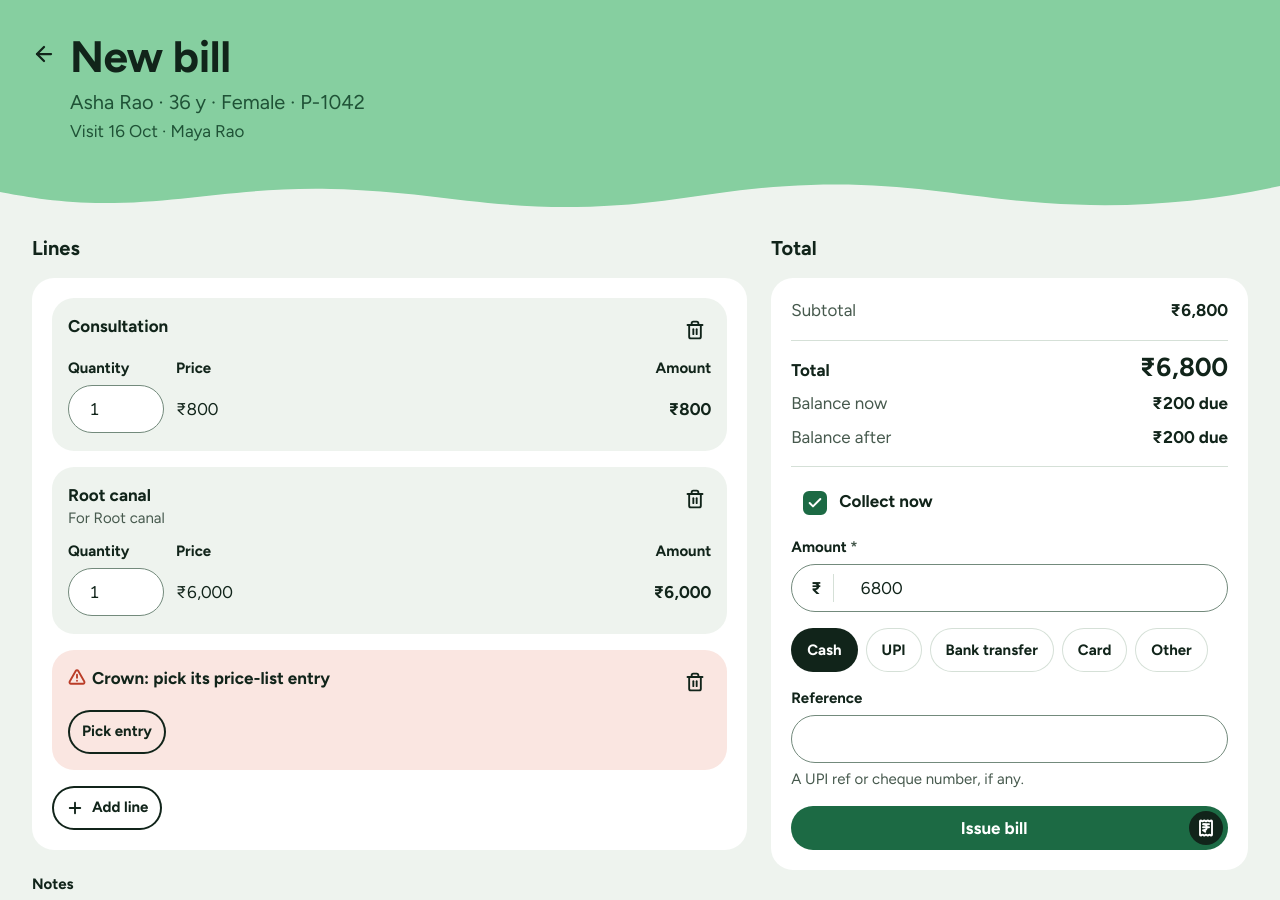
NewBill (plan §15.2; D302 – D313) › adds a line from the price list, searched and grouped, and removes one
Click the button named "Remove Crown" at {"x": 695, "y": 682}, box [673,660,717,704]
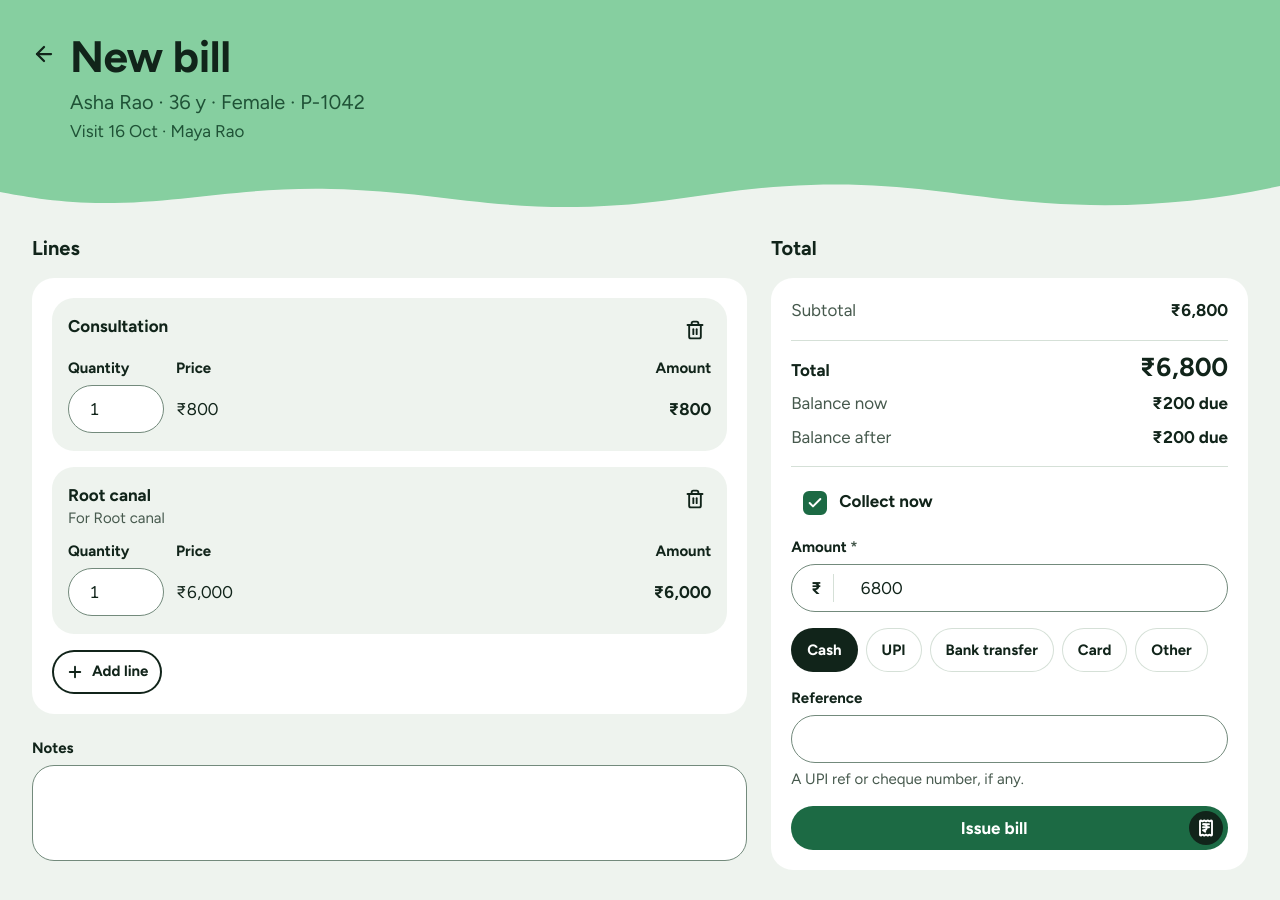
Click the button "Add line" at {"x": 107, "y": 672}, box [52,650,162,694]
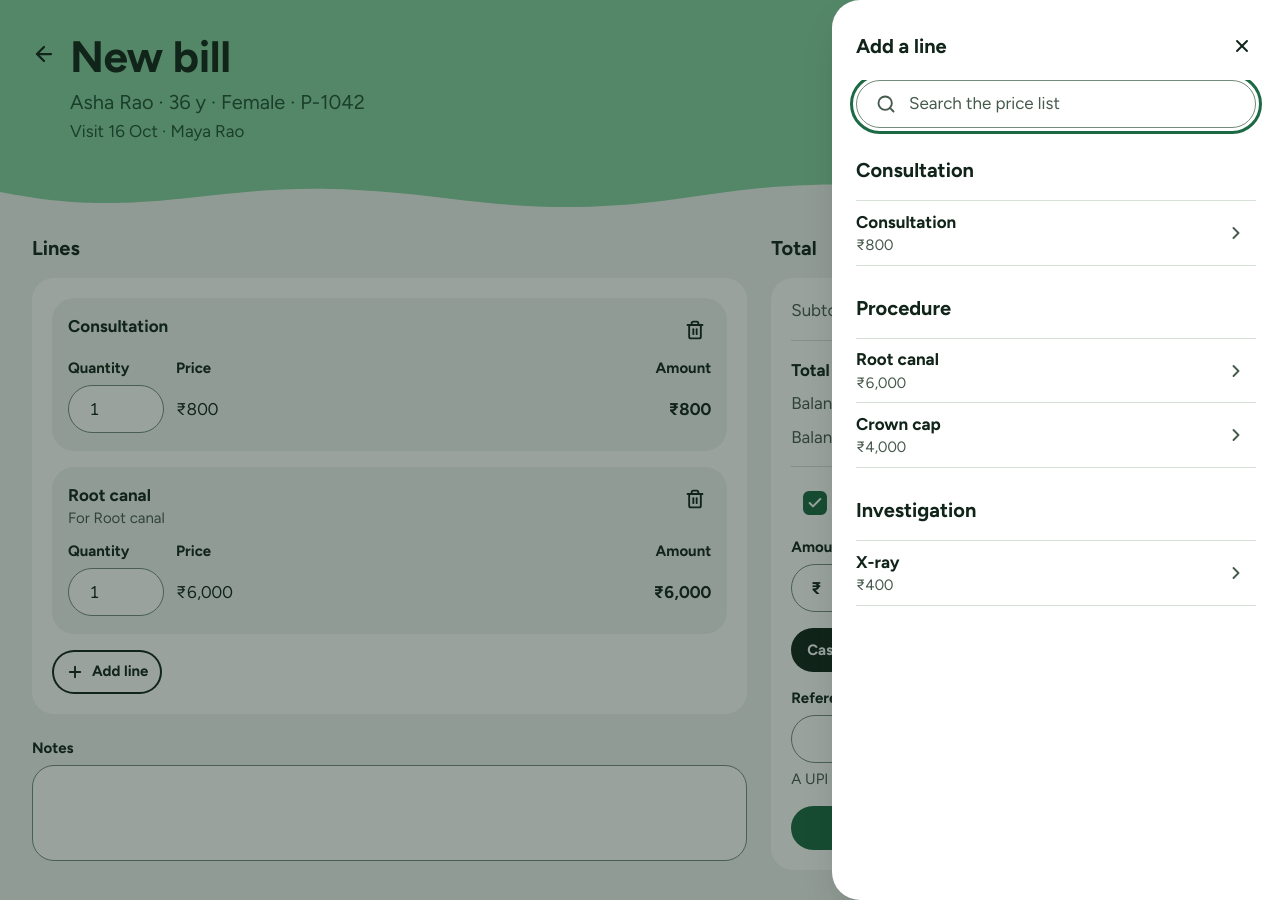
Expected: the heading "Investigation" is shown, [856,498,976,522]
Expected: the text "₹800" is shown, [856,236,893,254]
Type "zzz" into the search field at {"x": 1056, "y": 104}, box [856,80,1256,128]
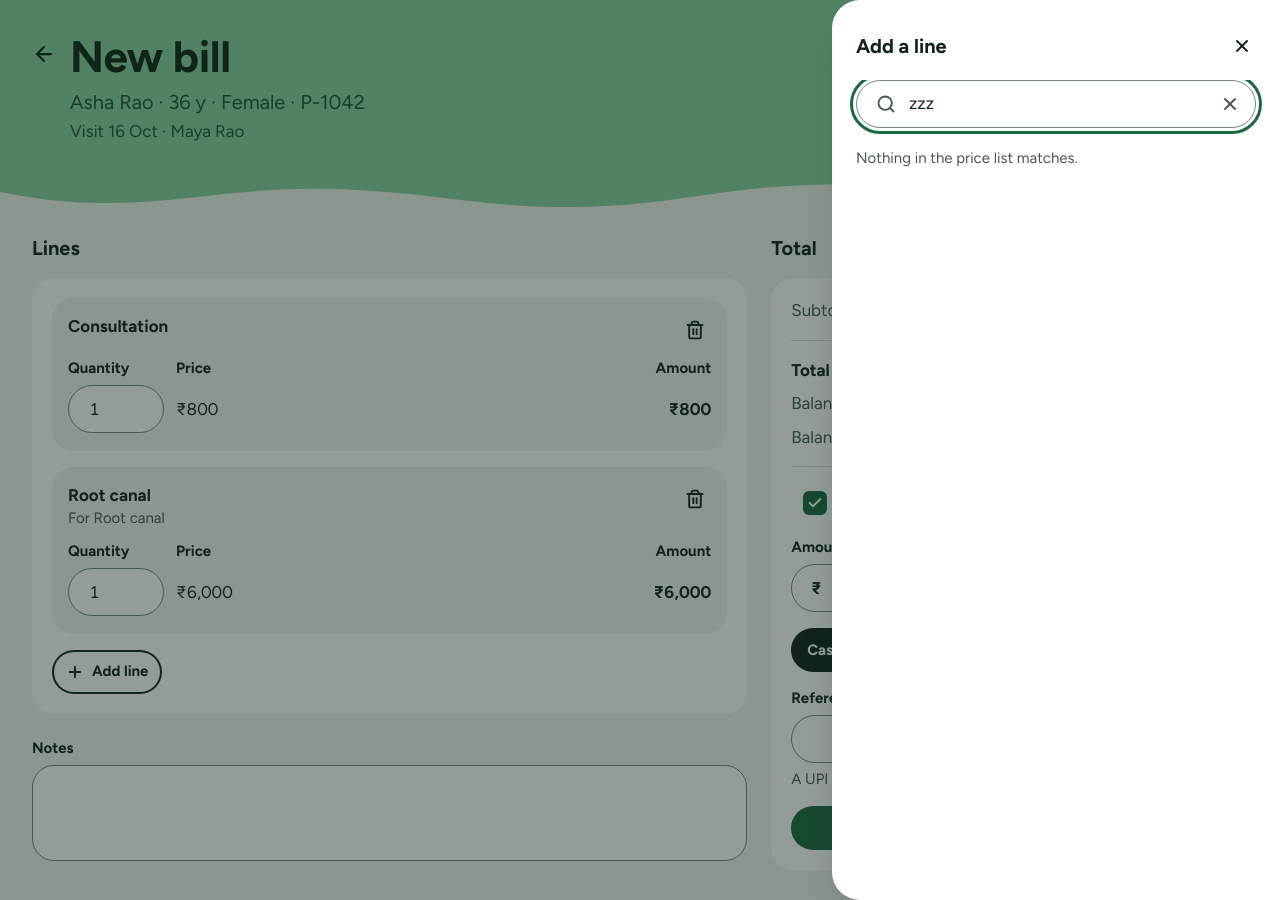
Expected: the text "Nothing in the price list matches." is shown, [856,149,1078,167]
Replace the text in the search field with "x-r" at {"x": 1056, "y": 104}, box [856,80,1256,128]
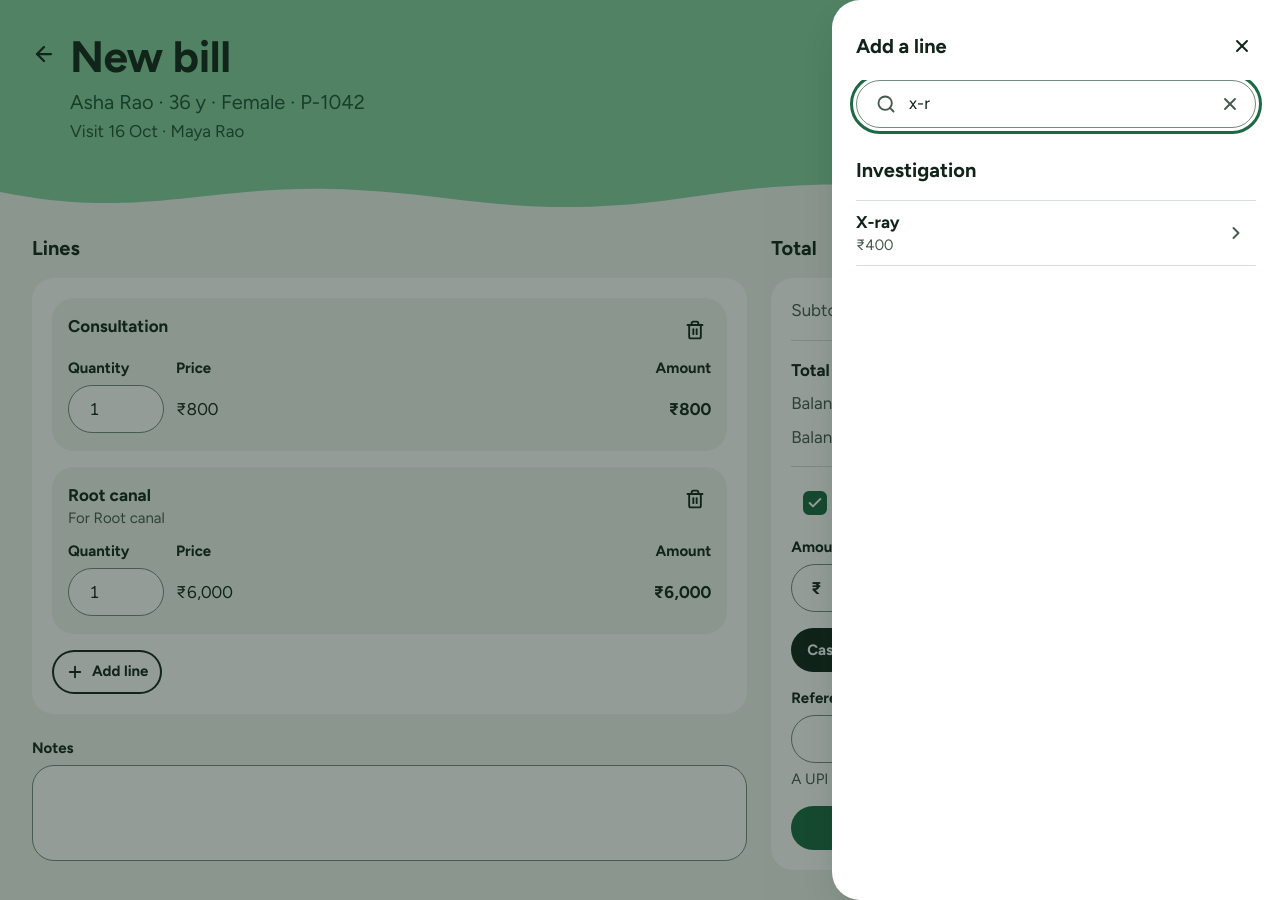
Click the button "X-ray" at {"x": 878, "y": 222}, box [856,210,1214,235]
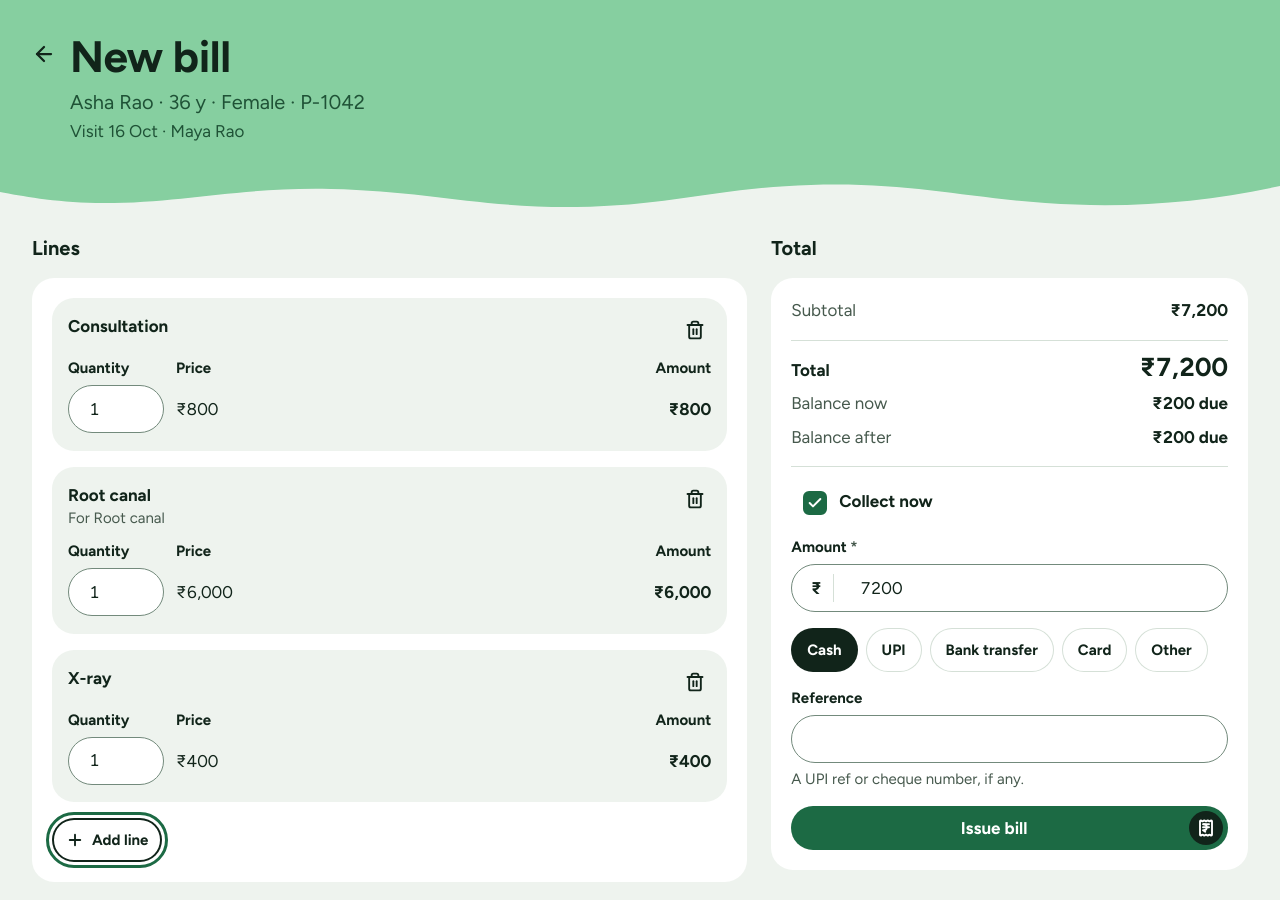
Expected: the text "₹400" is shown 2 times, [176,751,218,771]; [669,751,711,771]
Expected: the text "₹7,200" in the row of "Subtotal" is shown, [1170,300,1228,320]
Replace the text in the field named "Quantity of X-ray" with "2" at {"x": 116, "y": 761}, box [68,737,164,785]
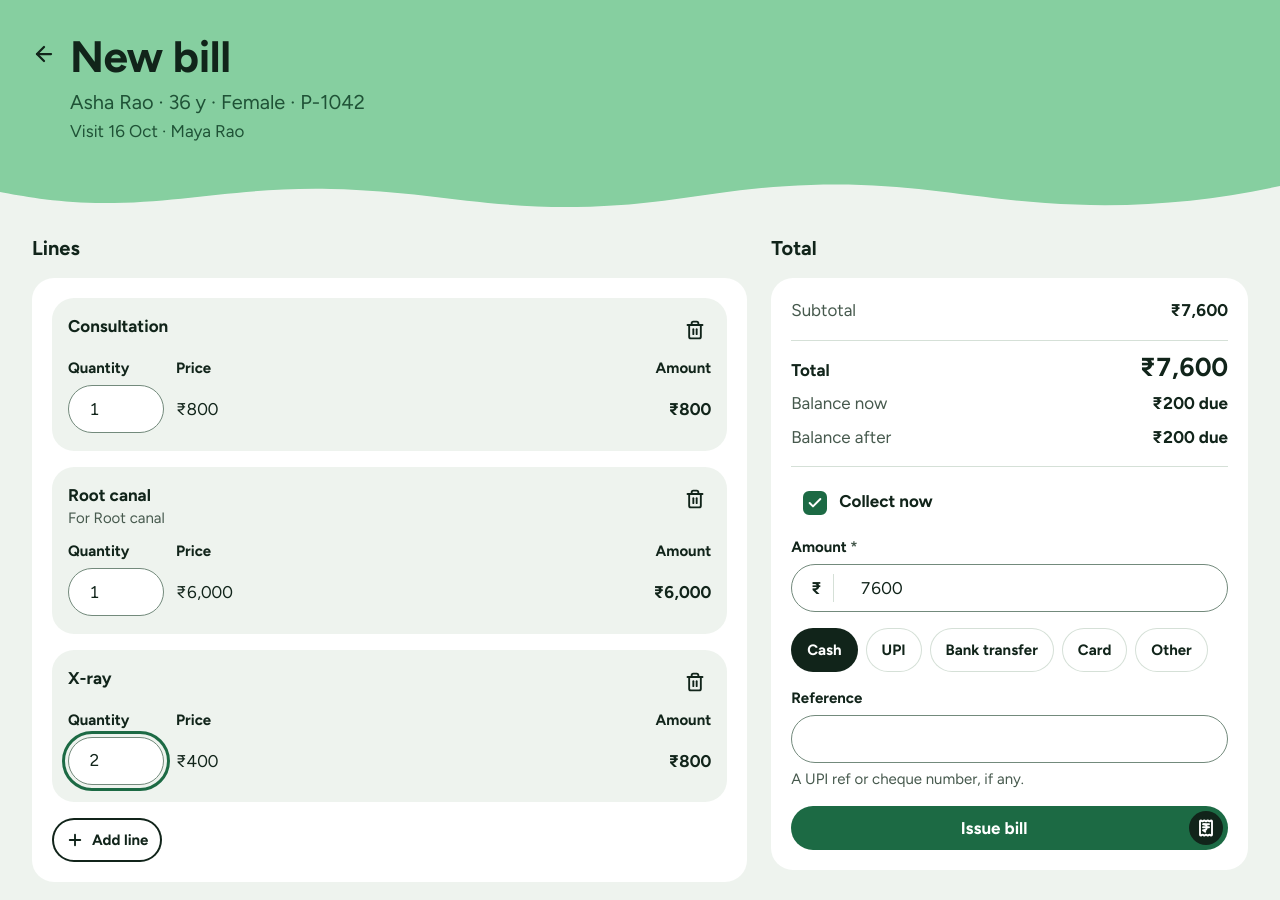
Expected: the text "₹7,600" in the row of "Subtotal" is shown, [1170,300,1228,320]
